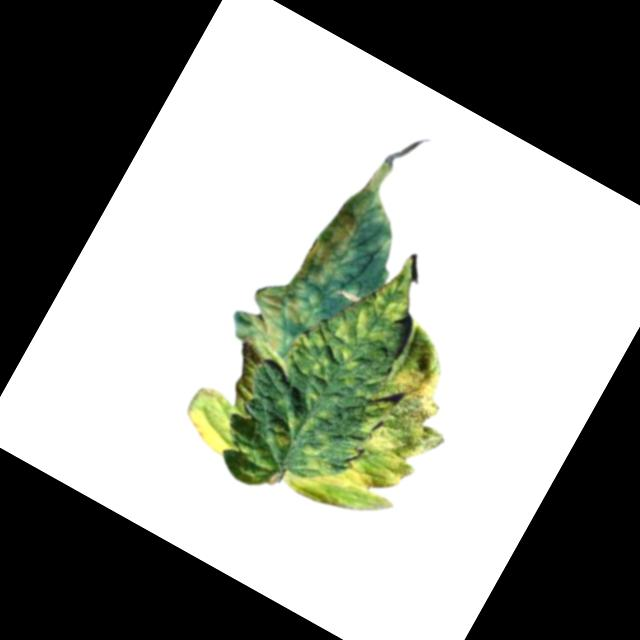Leaf_Mold: (166, 130, 551, 558)
